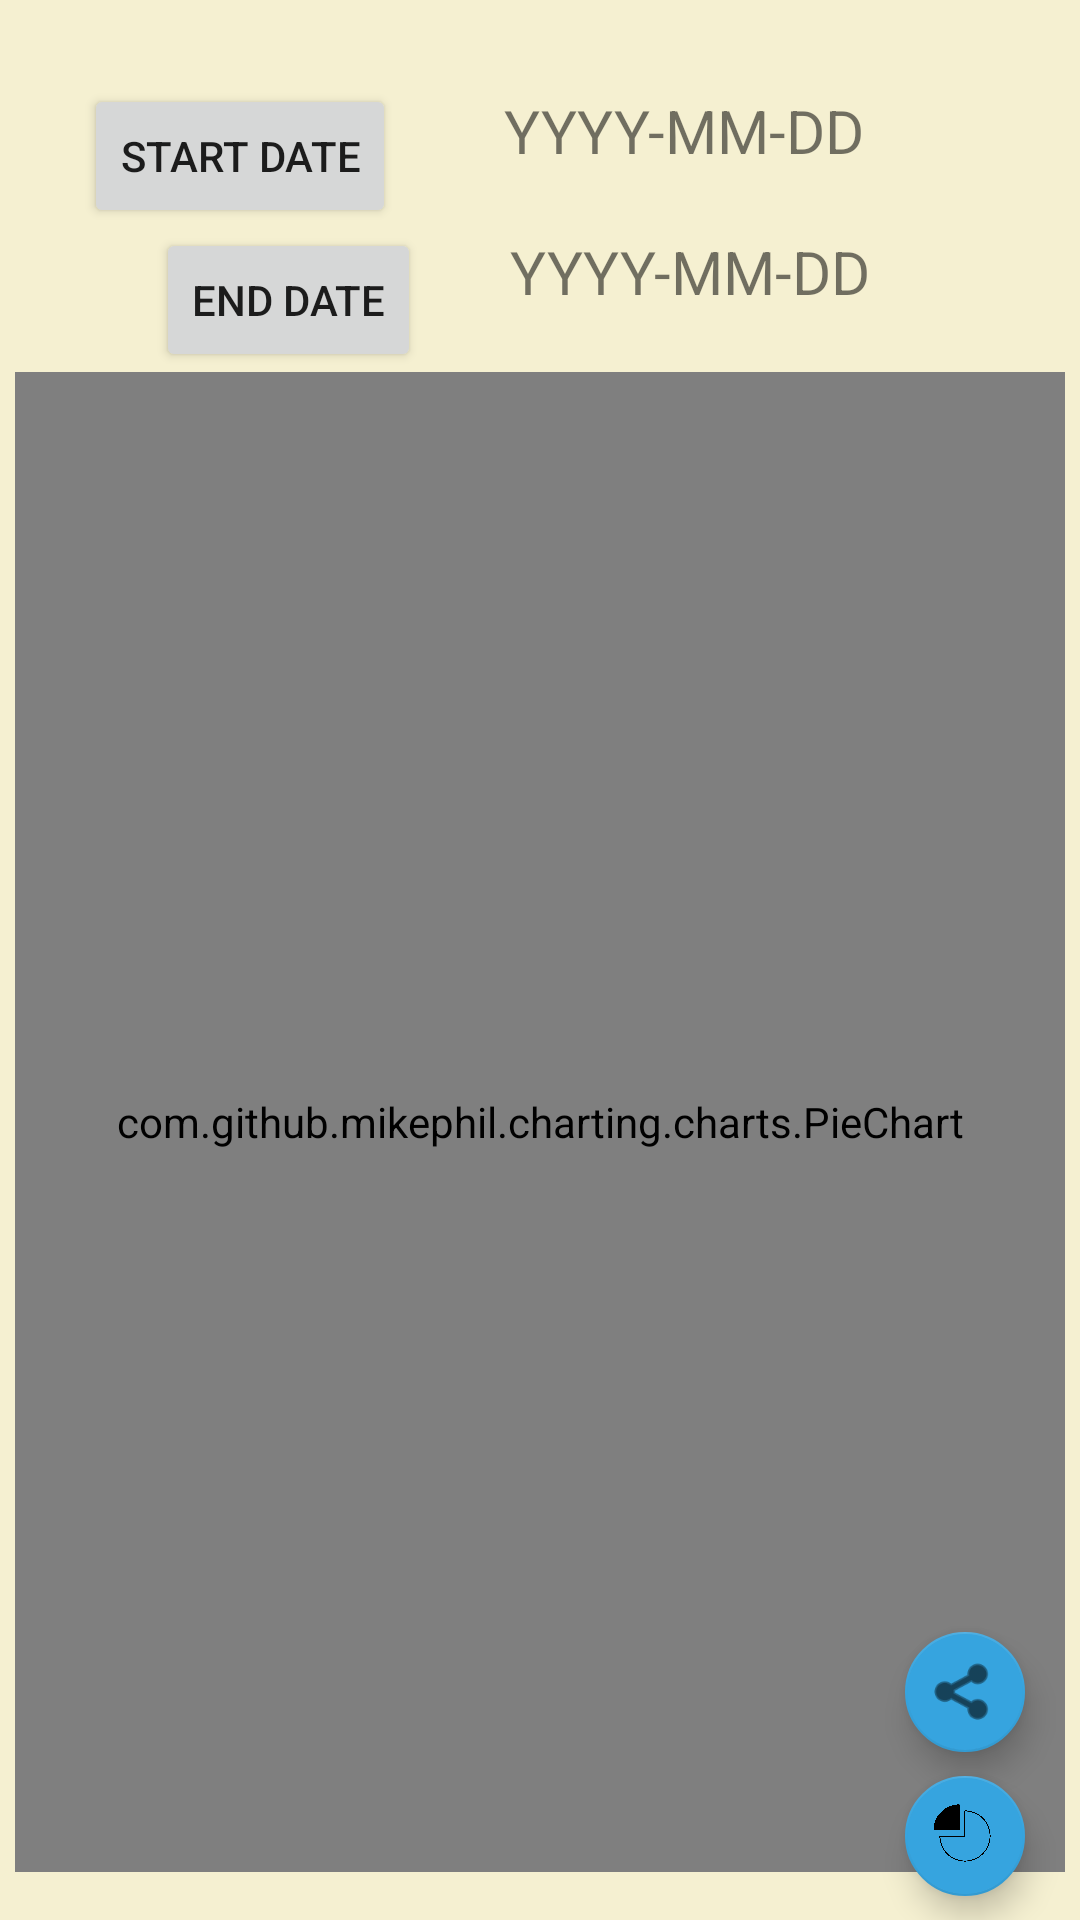

Screen size 1080px×1920px. Icon name, then its center in pixels as point (x, y):
piecharticon: point (965, 1842)
share: point (965, 1692)
